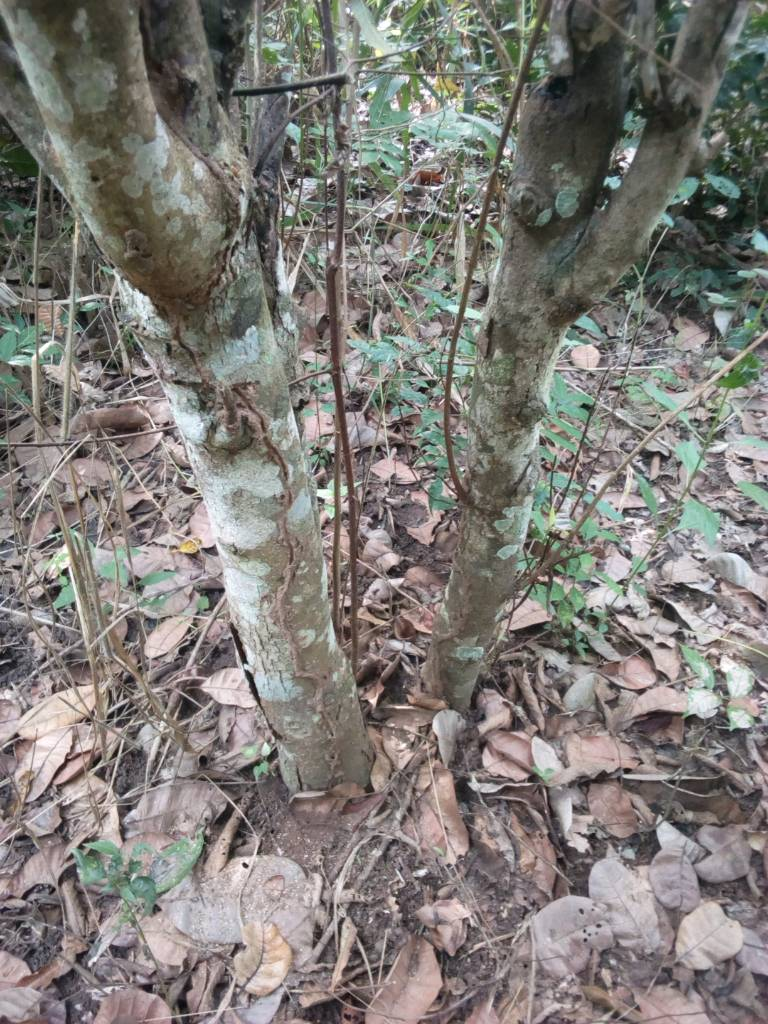Termites: (216, 374, 347, 760), (193, 139, 250, 308)
